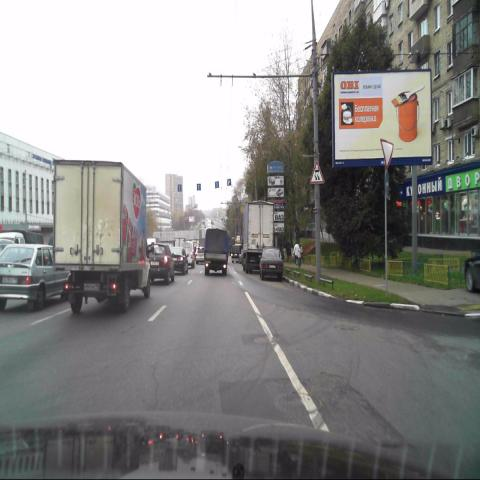1_15: (309, 162, 325, 183)
